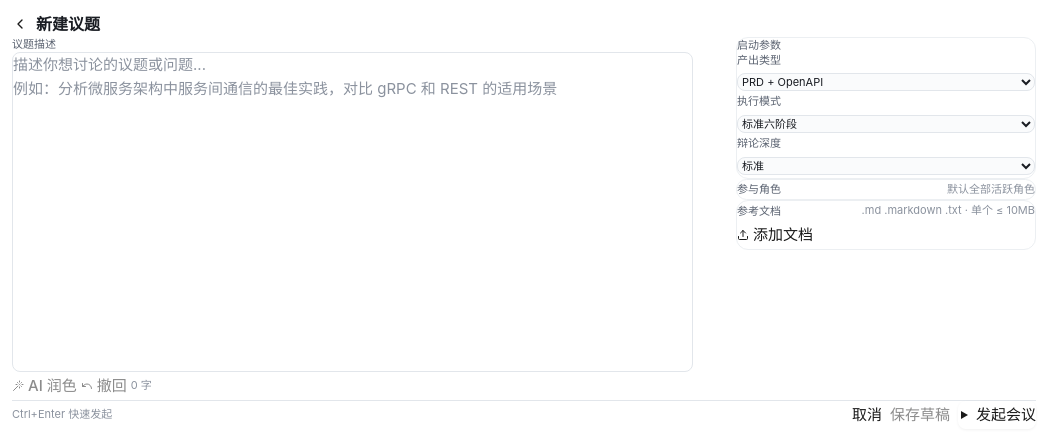
Scenario: BoardNewPage 新建议题页 › 字数统计随输入更新
The image size is (1053, 439).
Step 1. Type "一二三四五" into the text box labelled "议题描述" → (353, 212), box [12,52,693,372]
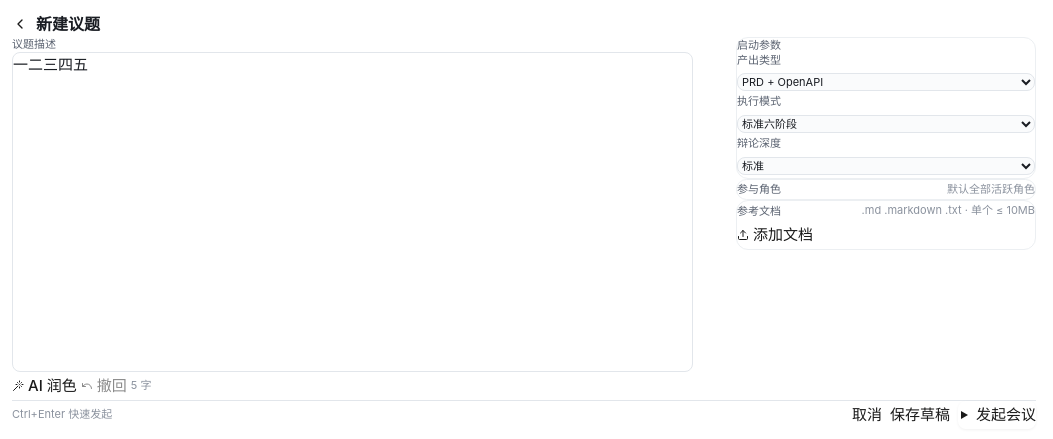
Check: the text "5 字" is shown, box [131,376,151,395]
